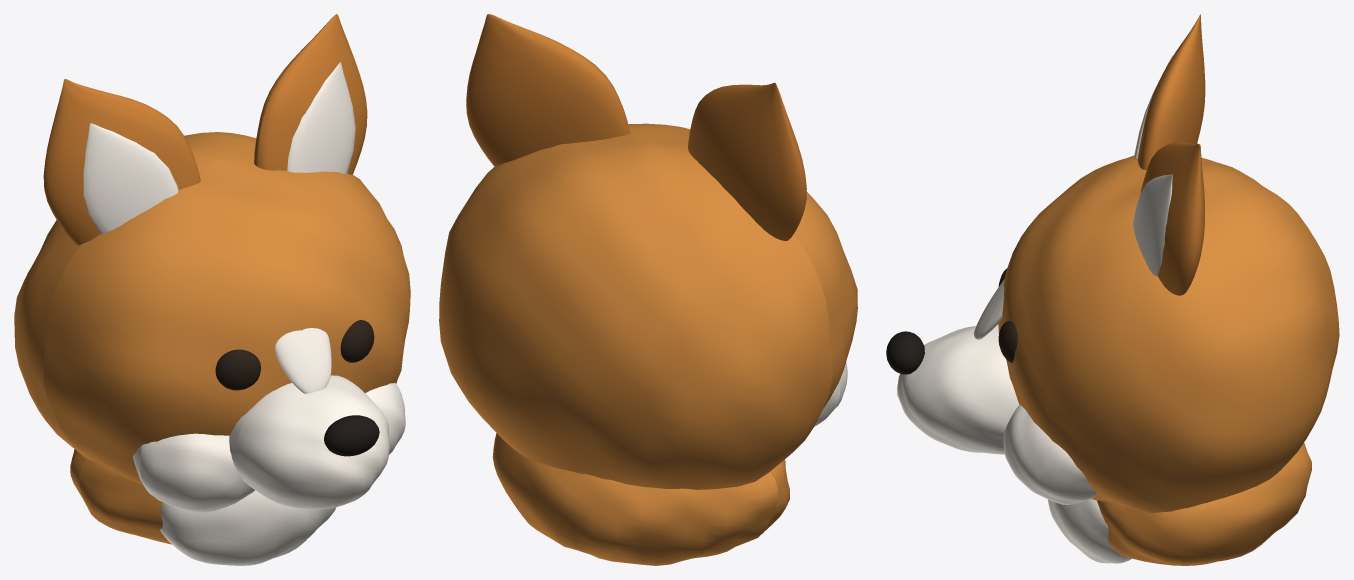
The model's file is head-dog-corgi.glb.
3 views of the same model, side by side, from view 1: azimuth 30°, elevation 25°; view 2: azimuth 150°, elevation 25°; view 3: azimuth 270°, elevation 25° (orthographic). The views are drawn at different scales.
Parts seen in each view (by area): view 1: PM_FUR_MAIN_1, PM_FUR_SECONDARY_4, PM_EARS_9, PM_FUR_SECONDARY_14, PM_EARS_11, PM_FUR_SECONDARY_2, PM_FUR_SECONDARY_10, PM_FUR_SECONDARY_12, PM_FUR_MAIN_13, PM_FUR_SECONDARY_5, PM_NOSE_6, PM_EYES_7 (+2 smaller); view 2: PM_FUR_MAIN_1, PM_FUR_MAIN_13, PM_EARS_11, PM_EARS_9, PM_FUR_SECONDARY_2; view 3: PM_FUR_MAIN_1, PM_FUR_MAIN_13, PM_FUR_SECONDARY_4, PM_EARS_11, PM_EARS_9, PM_FUR_SECONDARY_3, PM_FUR_SECONDARY_14, PM_FUR_SECONDARY_12, PM_NOSE_6, PM_FUR_SECONDARY_5, PM_EYES_8.
Boxes of the visible parts, <box> form: PM_FUR_MAIN_1: <box>14,132,410,485</box>; PM_FUR_SECONDARY_4: <box>229,375,389,509</box>; PM_EARS_9: <box>43,79,200,245</box>; PM_FUR_SECONDARY_14: <box>160,490,336,565</box>; PM_EARS_11: <box>254,14,367,174</box>; PM_FUR_SECONDARY_2: <box>133,433,254,512</box>; PM_FUR_SECONDARY_10: <box>83,123,178,233</box>; PM_FUR_SECONDARY_12: <box>287,62,355,174</box>; PM_FUR_MAIN_13: <box>70,449,171,544</box>; PM_FUR_SECONDARY_5: <box>275,328,331,393</box>; PM_NOSE_6: <box>324,415,379,456</box>; PM_EYES_7: <box>215,349,260,390</box>; PM_FUR_MAIN_1: <box>439,123,857,489</box>; PM_FUR_MAIN_13: <box>492,433,789,565</box>; PM_EARS_11: <box>466,14,629,167</box>; PM_EARS_9: <box>688,82,806,240</box>; PM_FUR_SECONDARY_2: <box>814,362,847,426</box>; PM_FUR_MAIN_1: <box>998,155,1339,512</box>; PM_FUR_MAIN_13: <box>1097,443,1311,565</box>; PM_FUR_SECONDARY_4: <box>897,324,1019,454</box>; PM_EARS_11: <box>1140,142,1204,295</box>; PM_EARS_9: <box>1137,14,1205,169</box>; PM_FUR_SECONDARY_3: <box>1003,405,1096,504</box>; PM_FUR_SECONDARY_14: <box>1047,499,1131,563</box>; PM_FUR_SECONDARY_12: <box>1133,174,1172,275</box>; PM_NOSE_6: <box>886,331,924,374</box>; PM_FUR_SECONDARY_5: <box>973,279,1004,339</box>; PM_EYES_8: <box>998,321,1017,362</box>.
Bounding box in the file's own units: 0.0663 × 0.0874 × 0.0762.
